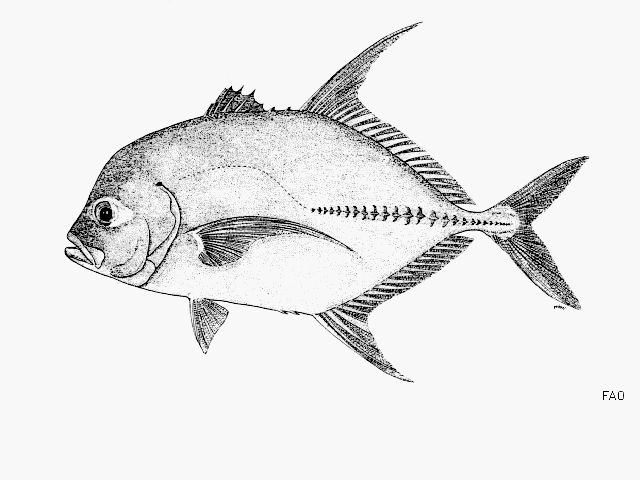fish: (64, 23, 589, 384)
